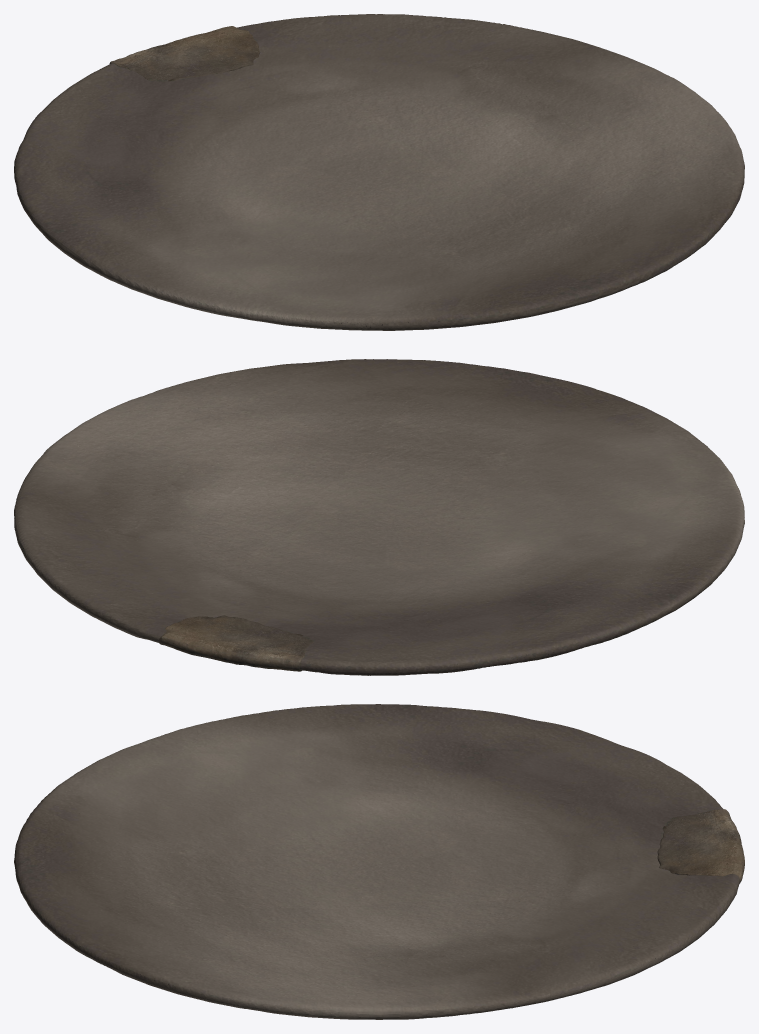
The model's file is budare.glb.
3 renders of one model, top to bottom at view 1: azimuth 30°, elevation 25°; view 2: azimuth 150°, elevation 25°; view 3: azimuth 270°, elevation 25°, orthographic.
Visible parts, largest first — view 1: reconstruccion, fotogrametria; view 2: reconstruccion, fotogrametria; view 3: reconstruccion, fotogrametria.
Boxes of the visible parts, x1,y1,x2,y2 form: reconstruccion: [14, 14, 744, 330]; fotogrametria: [109, 26, 260, 81]; reconstruccion: [14, 359, 744, 675]; fotogrametria: [159, 615, 313, 671]; reconstruccion: [14, 704, 740, 1019]; fotogrametria: [657, 809, 744, 883].
Size of the model in its own units: 22.19 by 0.9001 by 22.24.
Materials: 2 (2 with a texture image).
